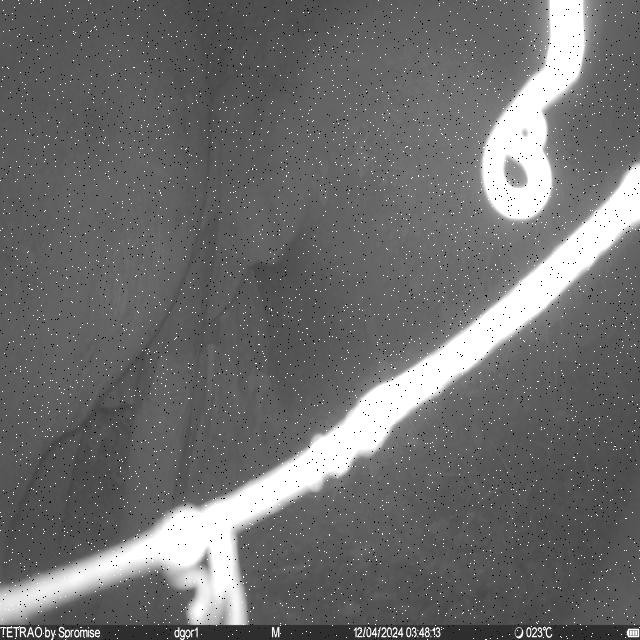ear: (204, 74, 314, 328)
elephant: (1, 0, 316, 626)
tusk: (205, 342, 218, 438)
